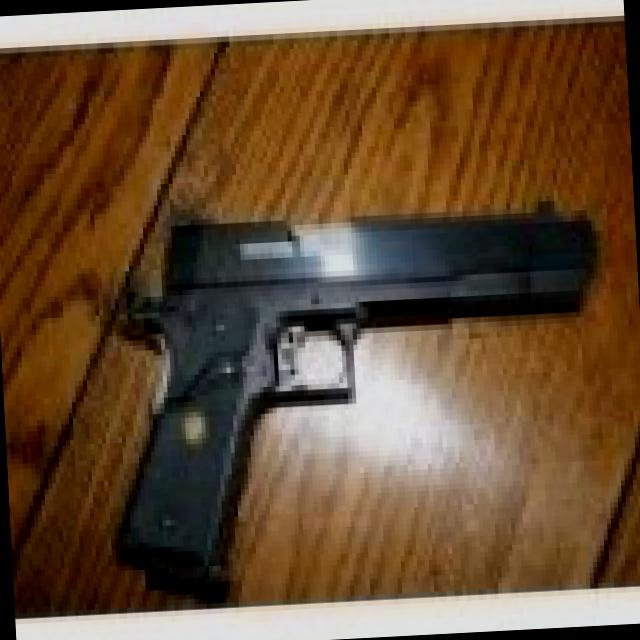handgun: (86, 182, 614, 598)
